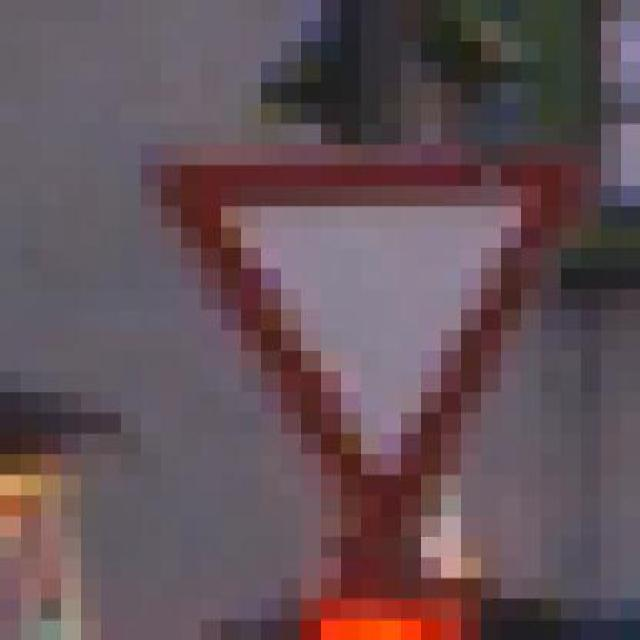Give Way: (140, 124, 600, 578)
